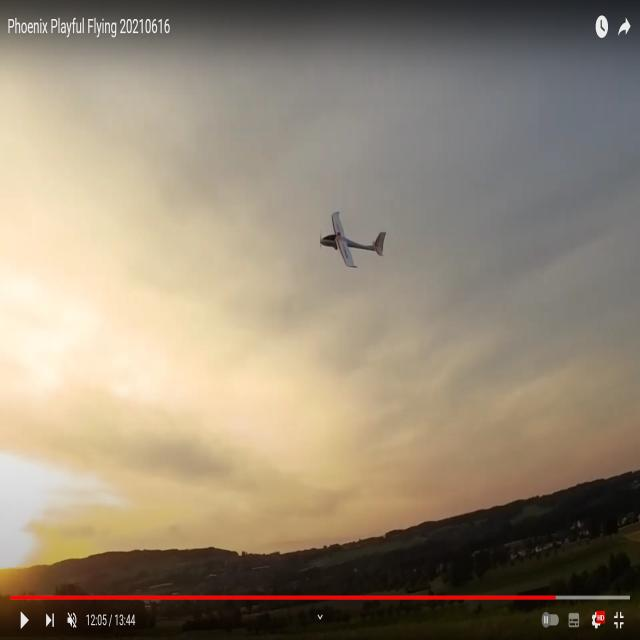iha: (350, 212, 354, 266)
